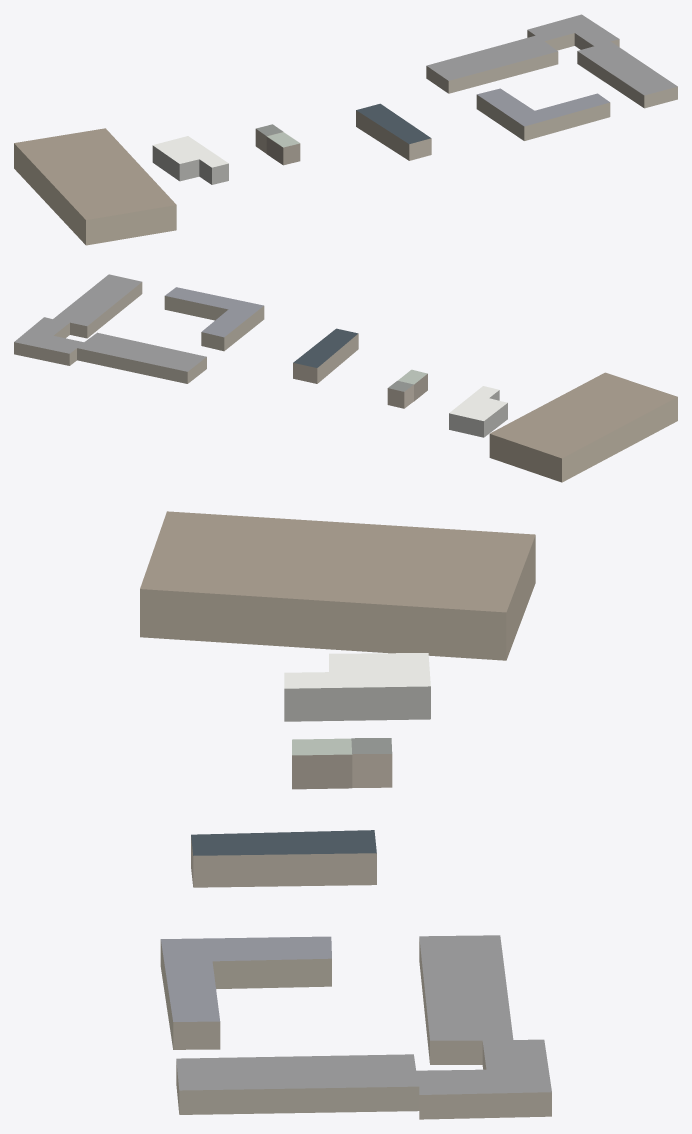
The picture shows the model from 3 angles, top to bottom: view 1: azimuth 30°, elevation 25°; view 2: azimuth 150°, elevation 25°; view 3: azimuth 270°, elevation 25°; orthographic projection. The views are drawn at different scales.
Parts seen in each view (by area): view 1: tuile; view 2: tuile; view 3: tuile.
Part boxes in pixels (left/top/right/bottom): tuile: left=14, top=14, right=677, bottom=245; tuile: left=14, top=274, right=677, bottom=482; tuile: left=140, top=511, right=551, bottom=1119.
Size of the model in its own units: 171 by 7.32 by 53.4.
